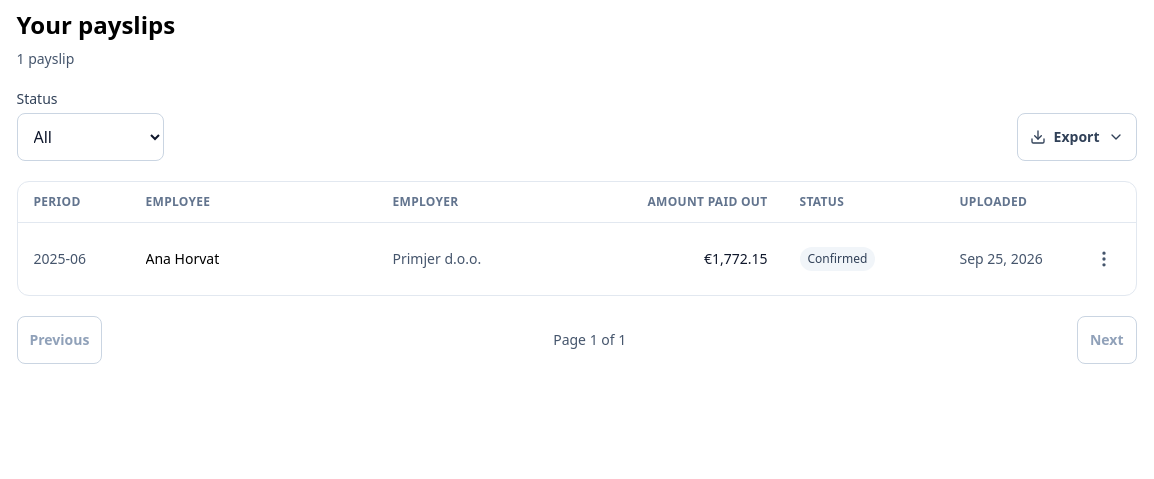
Scenario: HistoryPage › reports a single-payslip download failure
This screenshot has width=1154, height=479.
What coordinates should you click on to do the following:
click the button named "Actions for Ana Horvat"
I would click on:
 (1104, 259)
Its box is [1080,235,1128,283].
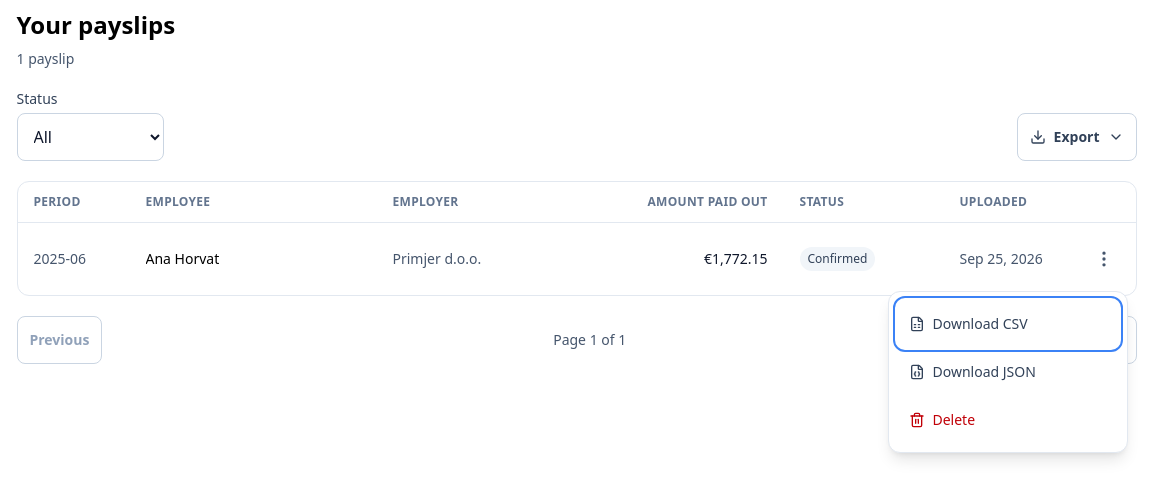
What coordinates should you click on to do the following:
click the button "Download CSV"
I would click on:
 (1008, 324)
Its box is [896,300,1118,348].
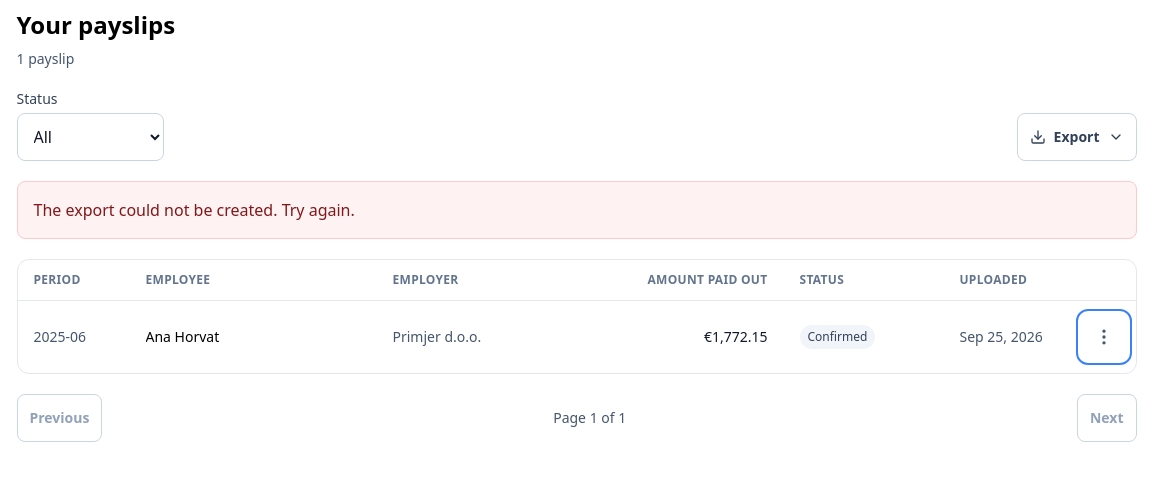
Expected: the text "The export could not be created. Try again." is shown, [34,199,355,221]
